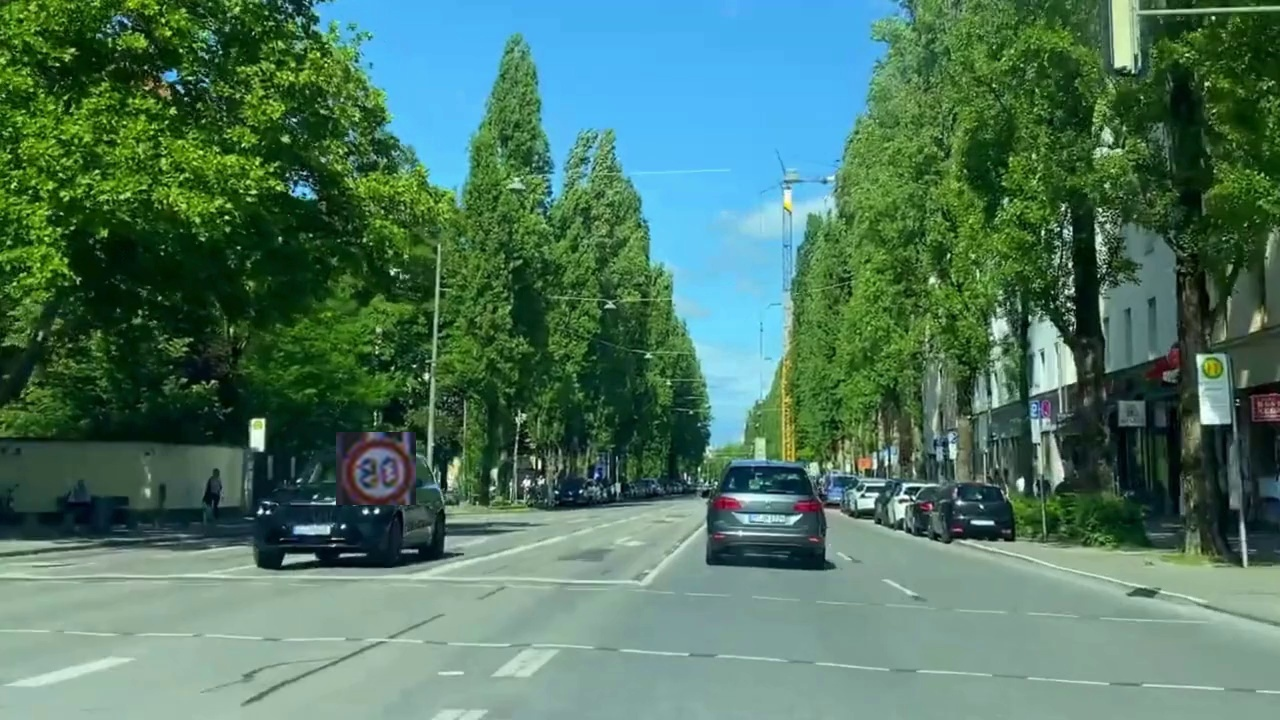Speed 80: (336, 432, 416, 505)
